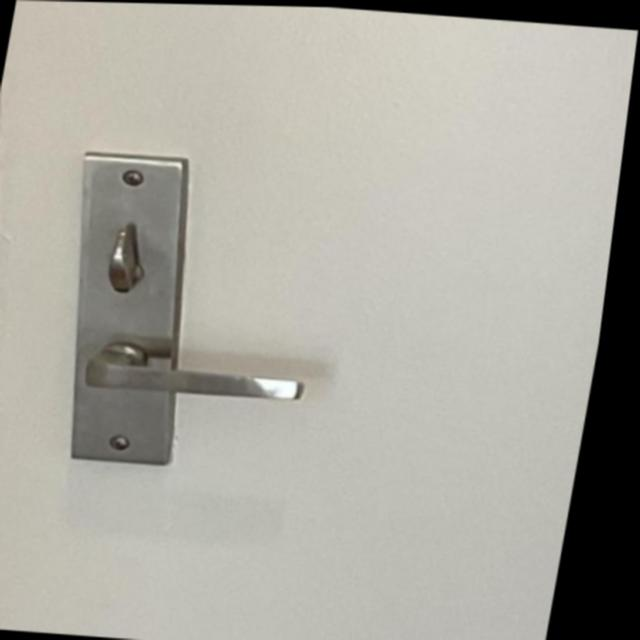door_handle: (55, 325, 337, 420)
